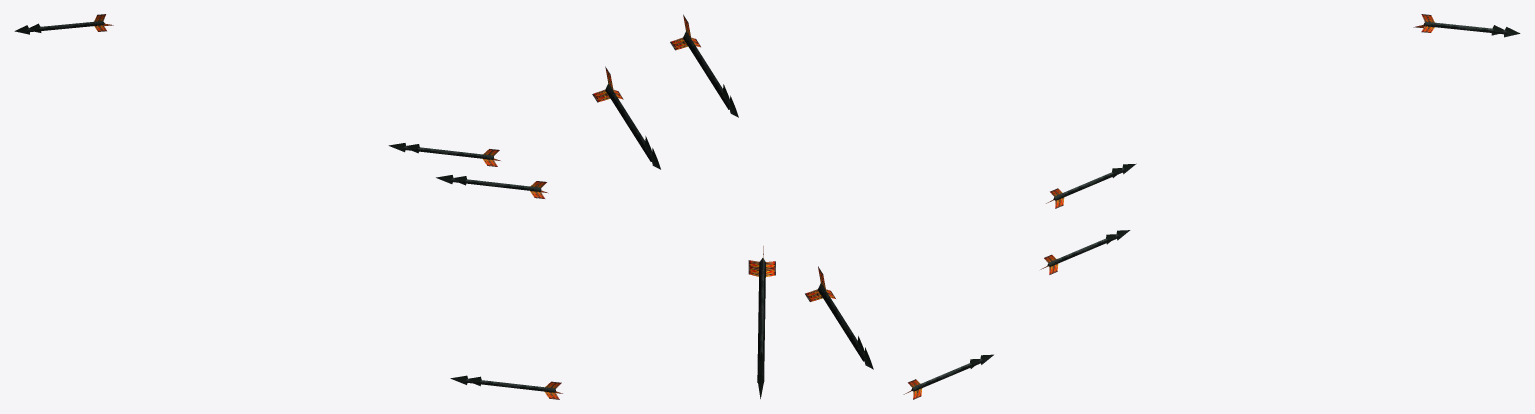
Rendered from CH11CIN2_ANIM_INST.obj.
3 renders of one model, left to right at view 1: azimuth 30°, elevation 25°; view 2: azimuth 150°, elevation 25°; view 3: azimuth 270°, elevation 25°, orthographic. The views are drawn at different scales.
Visible parts, largest first — view 1: arrow_goblin02, arrow_goblin, arrow_goblin01, arrow_goblin03; view 2: arrow_goblin03, arrow_goblin, arrow_goblin02, arrow_goblin01; view 3: arrow_goblin03, arrow_goblin01, arrow_goblin, arrow_goblin02.
Boxes of the visible parts, left/top/right/bottom form: arrow_goblin02: left=450, top=375, right=562, bottom=399; arrow_goblin: left=388, top=143, right=500, bottom=166; arrow_goblin01: left=436, top=175, right=548, bottom=198; arrow_goblin03: left=14, top=14, right=113, bottom=34; arrow_goblin03: left=748, top=246, right=775, bottom=398; arrow_goblin: left=670, top=14, right=738, bottom=117; arrow_goblin02: left=805, top=266, right=873, bottom=369; arrow_goblin01: left=592, top=66, right=660, bottom=169; arrow_goblin03: left=1413, top=14, right=1520, bottom=37; arrow_goblin01: left=1040, top=230, right=1130, bottom=274; arrow_goblin: left=1046, top=163, right=1136, bottom=208; arrow_goblin02: left=903, top=354, right=993, bottom=399.
Bounding box in the file's own units: 281 × 221 × 454.
